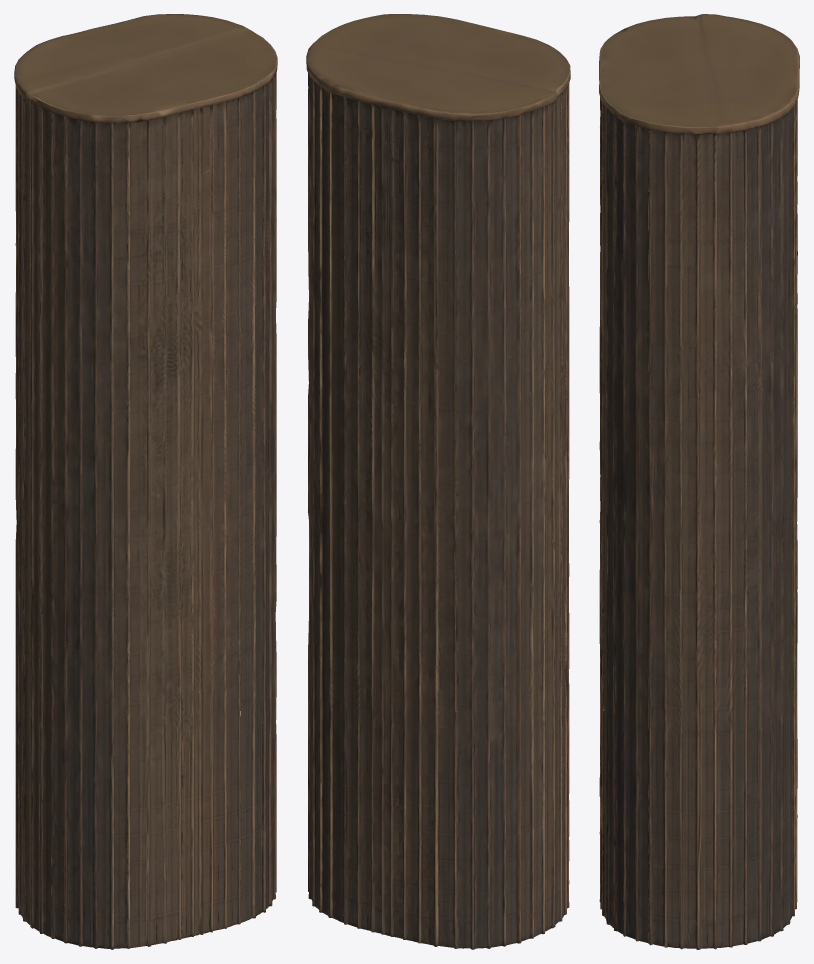
The model's file is attempt01-raw.glb.
3 views of the same model, side by side, from view 1: azimuth 30°, elevation 25°; view 2: azimuth 150°, elevation 25°; view 3: azimuth 270°, elevation 25° (orthographic).
Parts seen in each view (by area): view 1: montparnasse; view 2: montparnasse; view 3: montparnasse.
Part boxes in pixels (x1,y1,x2,y2): montparnasse: [14, 14, 277, 949]; montparnasse: [306, 14, 570, 949]; montparnasse: [599, 14, 799, 949].
Size of the model in its own units: 177 by 599 by 132.
1 material, 1 textured.
